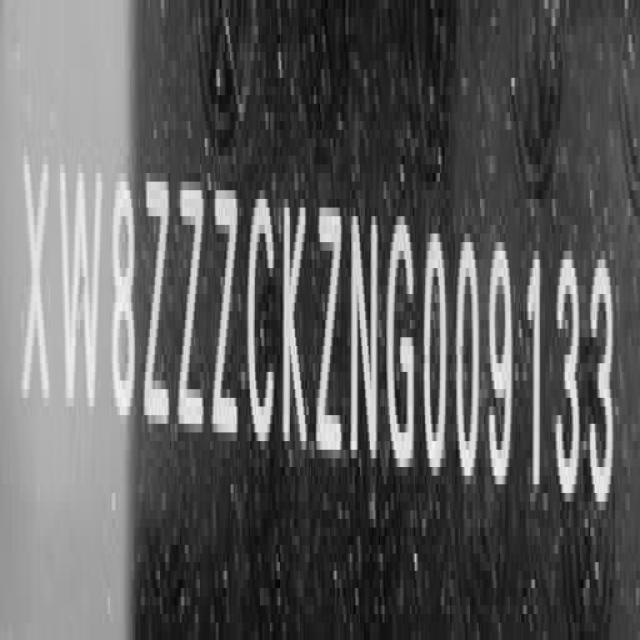0: (456, 223, 483, 492), (424, 214, 449, 486)
1: (524, 242, 544, 510)
3: (556, 244, 584, 513), (592, 256, 620, 519)
8: (114, 168, 137, 437)
9: (487, 229, 515, 496)
C: (248, 180, 277, 458)
G: (390, 203, 420, 481)
K: (281, 174, 309, 462)
N: (350, 193, 382, 478)
W: (57, 149, 103, 428)
X: (20, 142, 50, 426)
Z: (315, 186, 344, 474), (212, 174, 240, 450), (143, 162, 169, 445), (178, 170, 204, 442)
